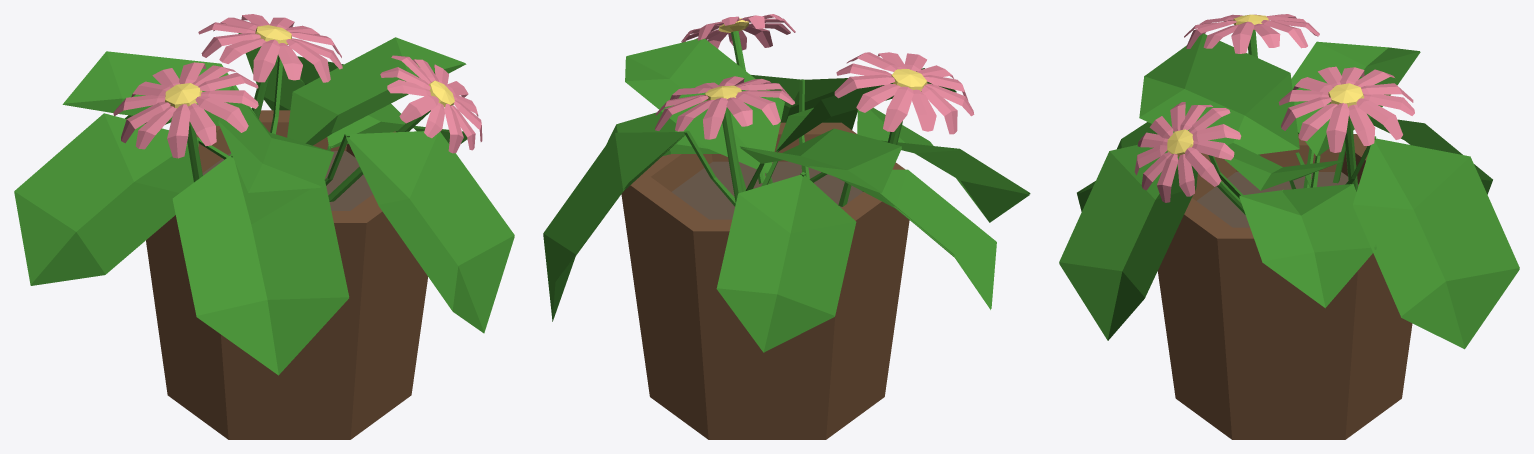
The model's file is Flower_16.fbx.
3 views of the same model, side by side, from view 1: azimuth 30°, elevation 25°; view 2: azimuth 150°, elevation 25°; view 3: azimuth 270°, elevation 25° (orthographic). The views are drawn at different scales.
Parts seen in each view (by area): view 1: Flower_16; view 2: Flower_16; view 3: Flower_16.
Boxes of the visible parts, x1=… form: Flower_16: x1=14, y1=14, x2=514, y2=439; Flower_16: x1=543, y1=14, x2=1030, y2=439; Flower_16: x1=1059, y1=14, x2=1519, y2=439.
Bounding box in the file's own units: 33.12 × 33.99 × 26.94.
